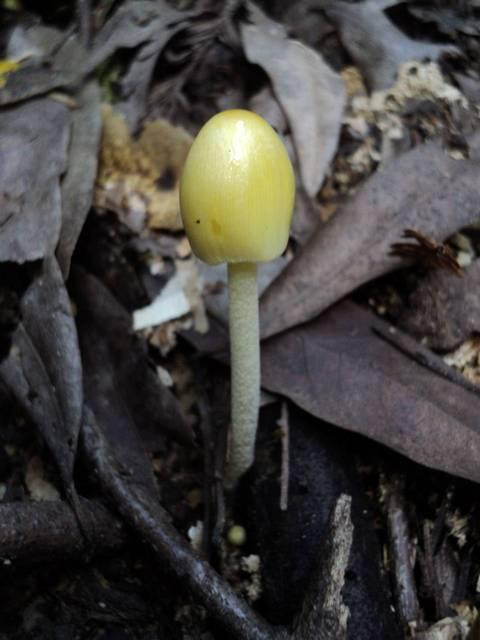edible_mushroom: (177, 107, 296, 490)
